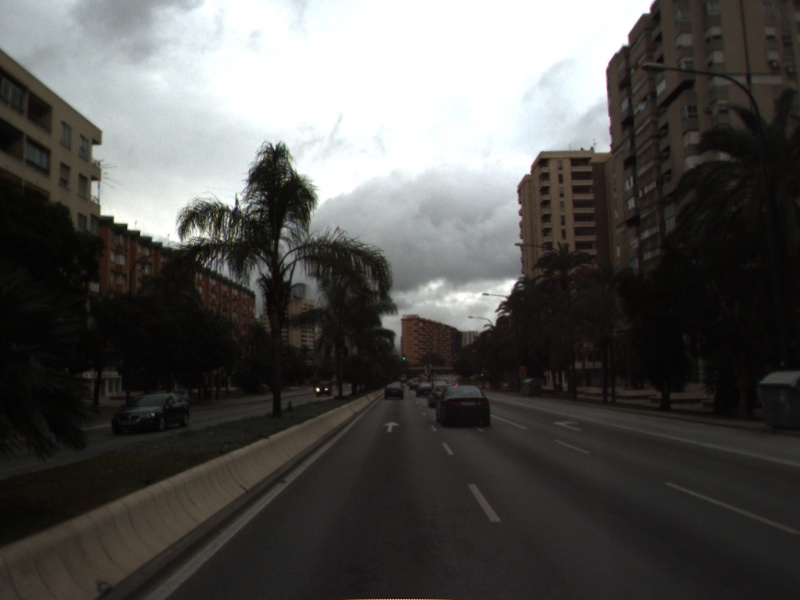RIGHT: (550, 418, 585, 433)
STRAIGHT: (381, 419, 403, 434)
